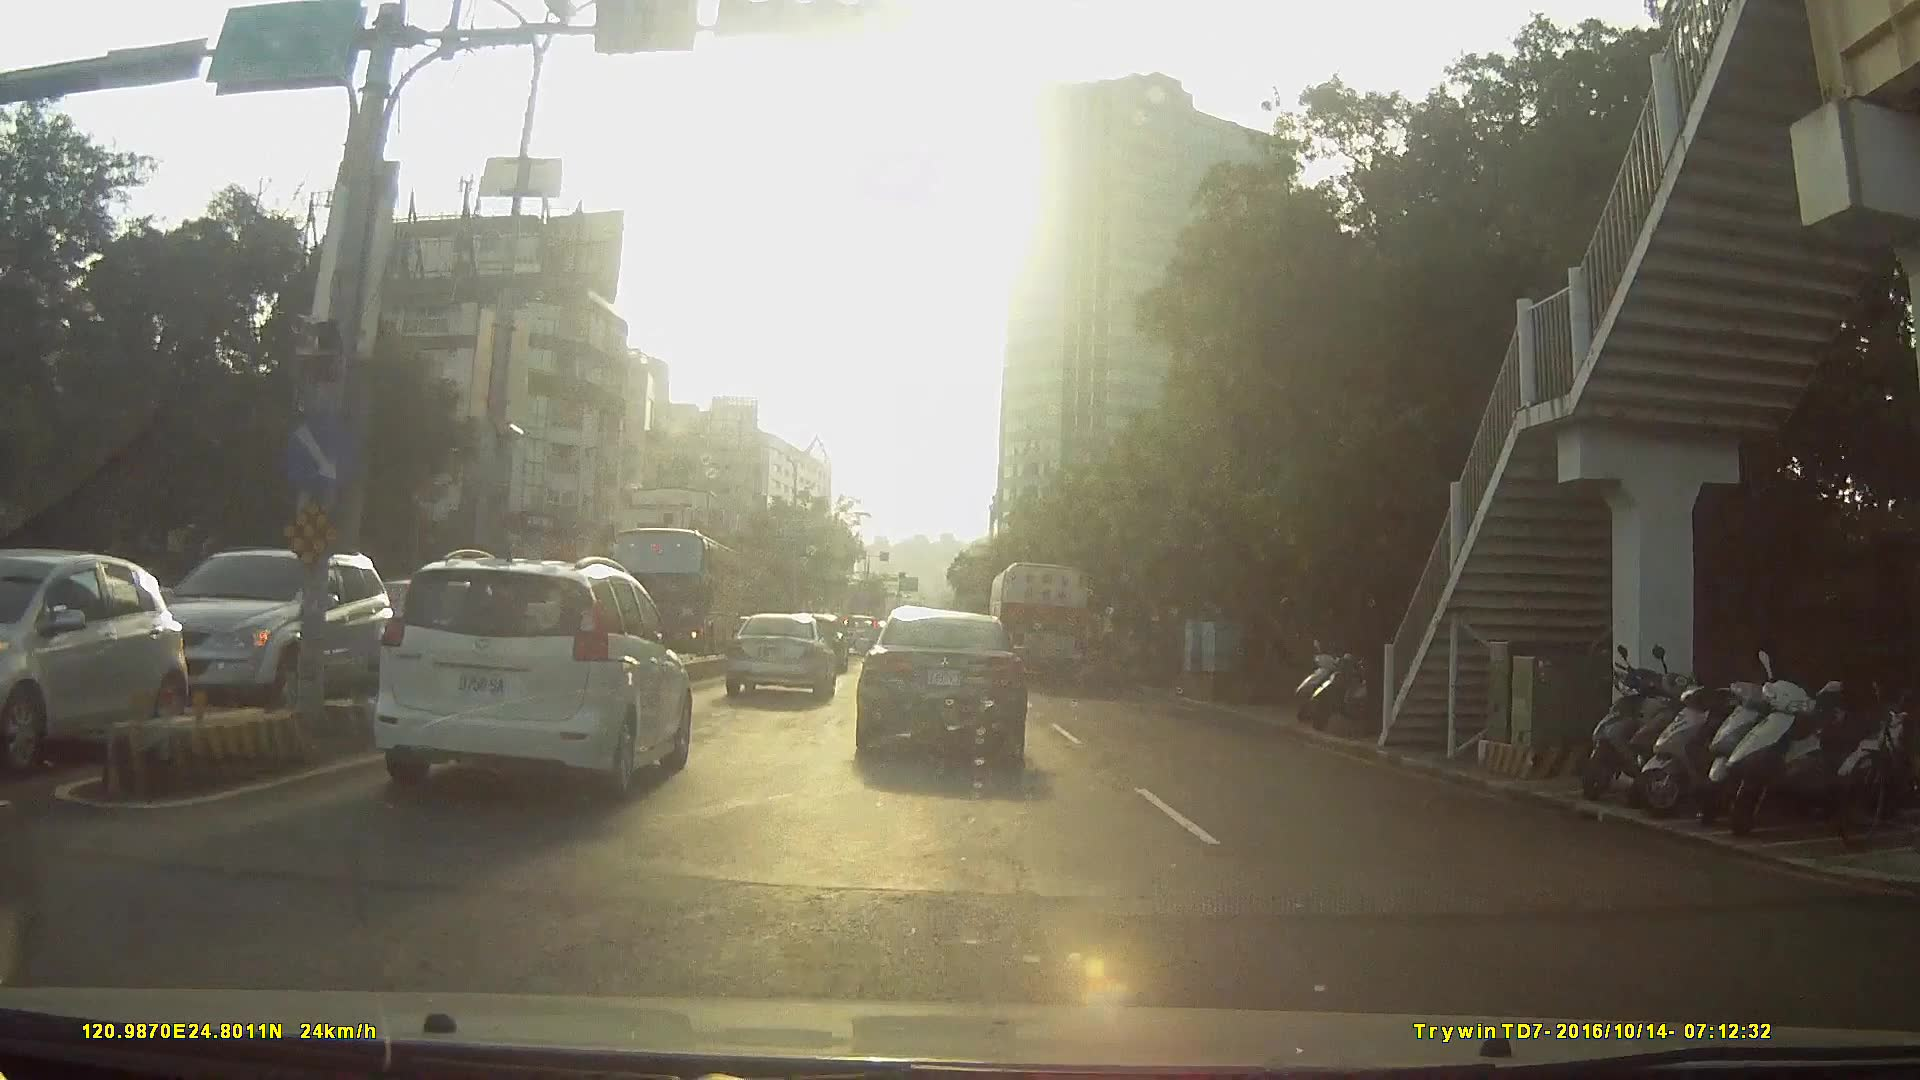vehicle: (251, 556, 684, 868), (375, 549, 694, 800), (119, 538, 418, 727), (0, 549, 142, 765), (855, 603, 1029, 771), (600, 525, 738, 662), (986, 560, 1092, 688), (727, 615, 836, 705), (837, 615, 884, 657)
